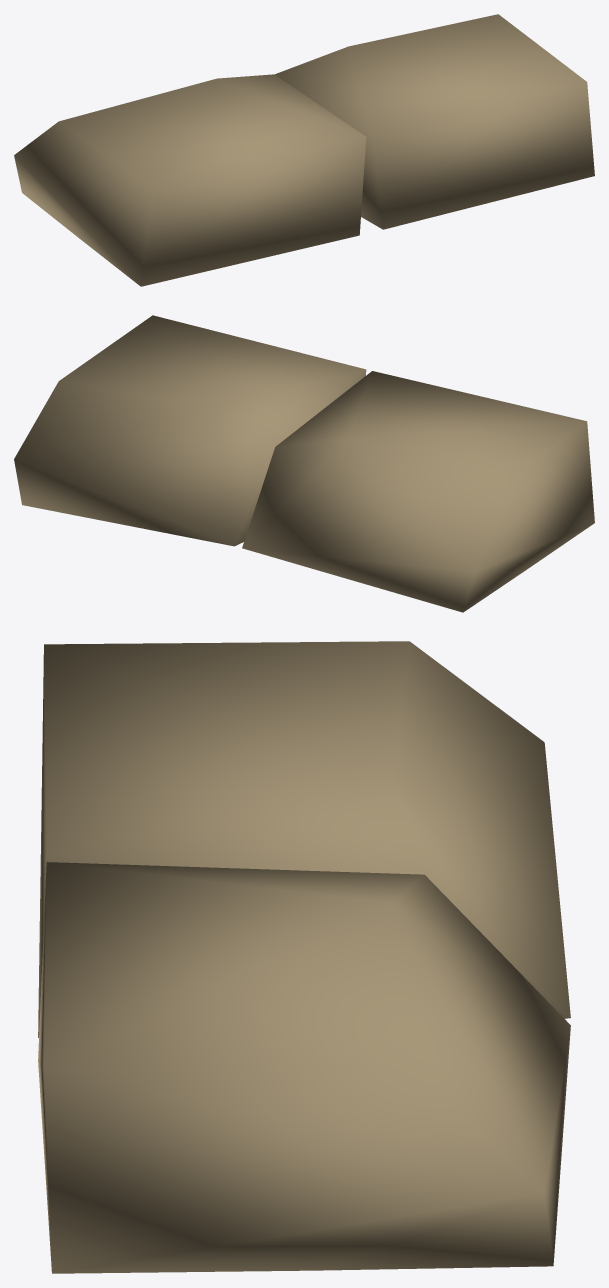
Rendered from Sofa.fbx.
3 views of the same model, one above another, from view 1: azimuth 30°, elevation 25°; view 2: azimuth 150°, elevation 25°; view 3: azimuth 270°, elevation 25° (orthographic). The views are drawn at different scales.
Parts seen in each view (by area): view 1: Sofa; view 2: Sofa; view 3: Sofa.
Part boxes in pixels (bbox=[...]): Sofa: bbox=[14, 14, 594, 286]; Sofa: bbox=[14, 315, 594, 612]; Sofa: bbox=[38, 641, 570, 1273].
Size of the model in its own units: 167 by 37.06 by 83.39.
